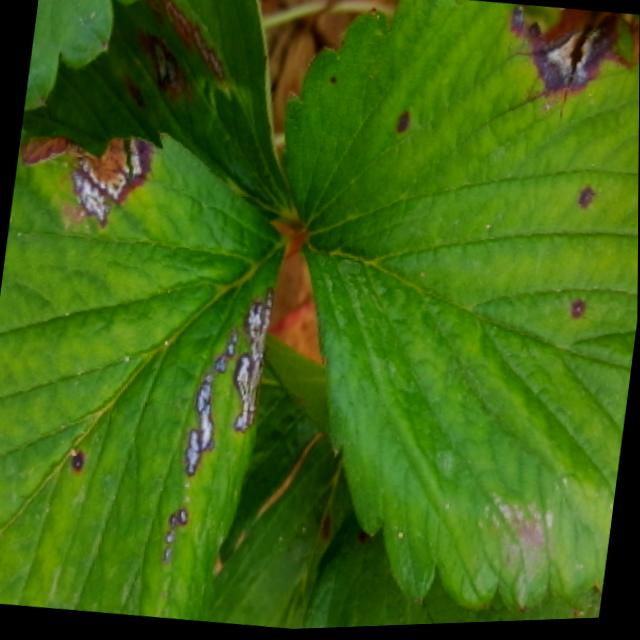Leaf Spot: (279, 0, 640, 623), (0, 128, 293, 622), (203, 331, 602, 631), (20, 0, 294, 227)
